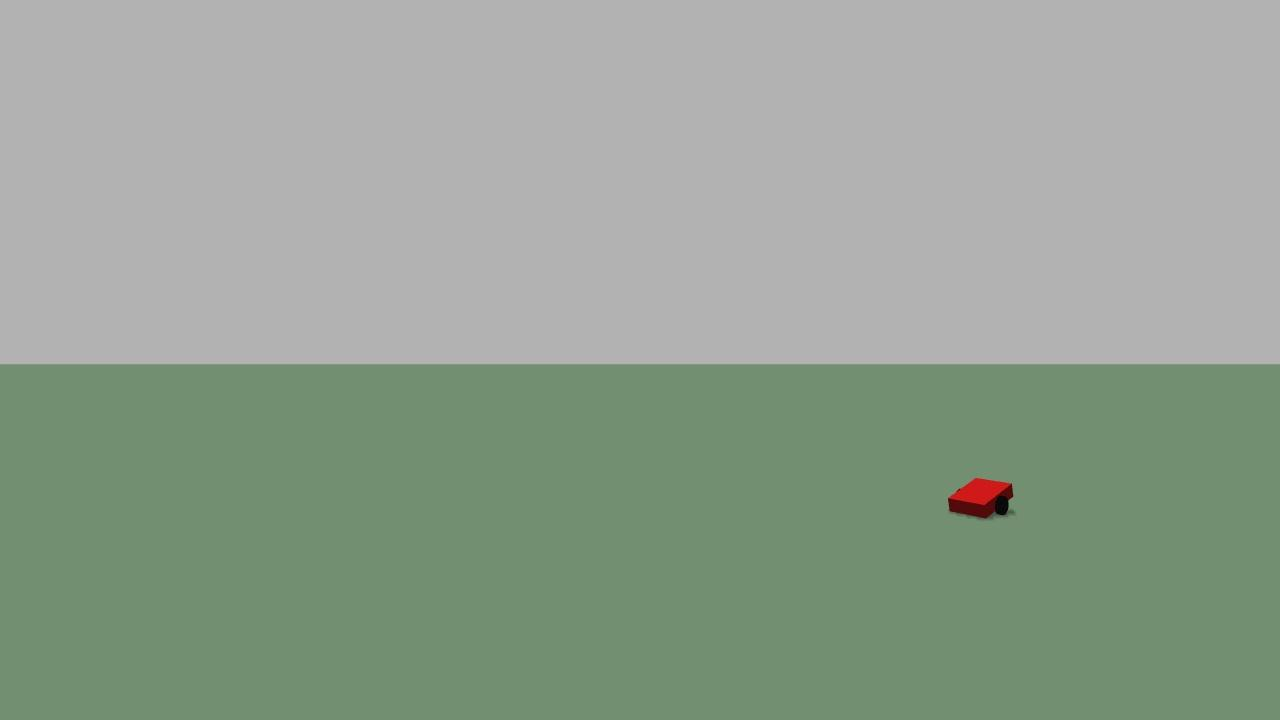ground_vehicle: (946, 465, 1032, 535)
